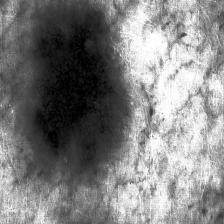Benign Marking or Mole: (29, 4, 131, 175)
